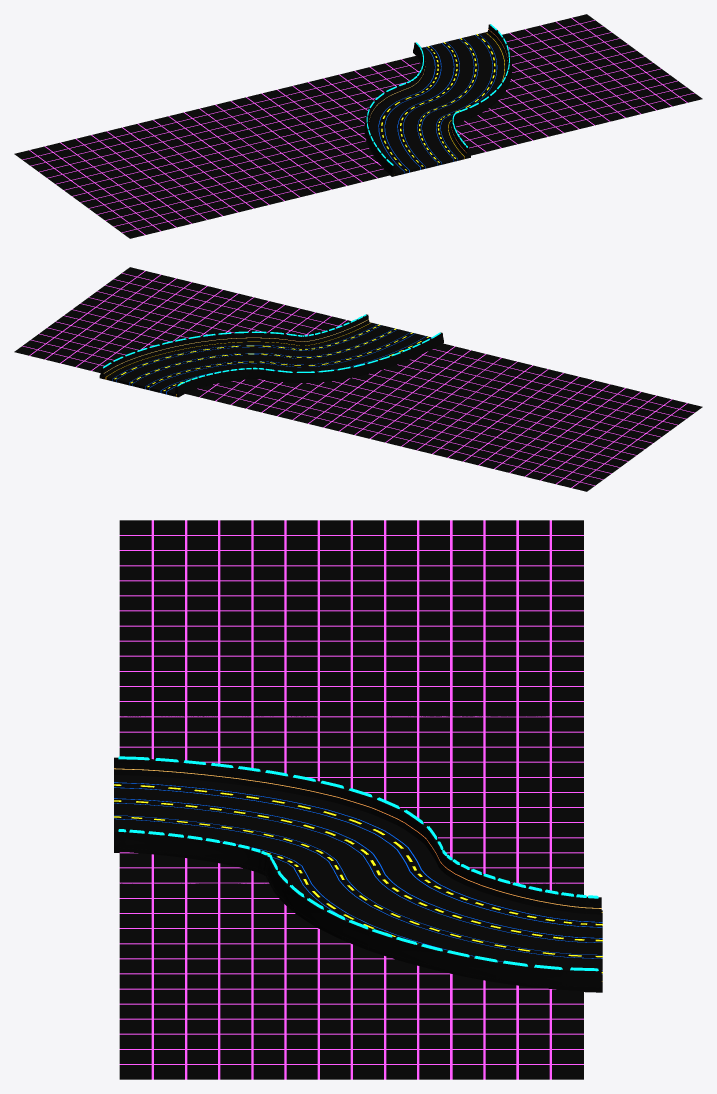
The model's file is road_tile_three.fbx.
3 renders of one model, top to bottom at view 1: azimuth 30°, elevation 25°; view 2: azimuth 150°, elevation 25°; view 3: azimuth 270°, elevation 25°, orthographic. The views are drawn at different scales.
Visible parts, largest first — view 1: Plane.004, Plane.003, Cube.049, Cube.050; view 2: Plane.004, Plane.003, Cube.049, Cube.050; view 3: Plane.004, Plane.003, Cube.049, Cube.050.
Part boxes in pixels (x1,y1,x2,y2): Plane.004: (14,14,702,238); Plane.003: (205,59,516,193); Cube.049: (364,32,511,176); Cube.050: (364,24,511,176); Plane.004: (14,267,702,491); Plane.003: (200,312,516,446); Cube.049: (99,322,443,397); Cube.050: (100,314,443,396); Plane.004: (119,520,583,1079); Plane.003: (119,702,583,897); Cube.049: (114,775,602,992); Cube.050: (114,756,601,992).
Bounding box in the file's own units: 570 × 10.27 × 211.
